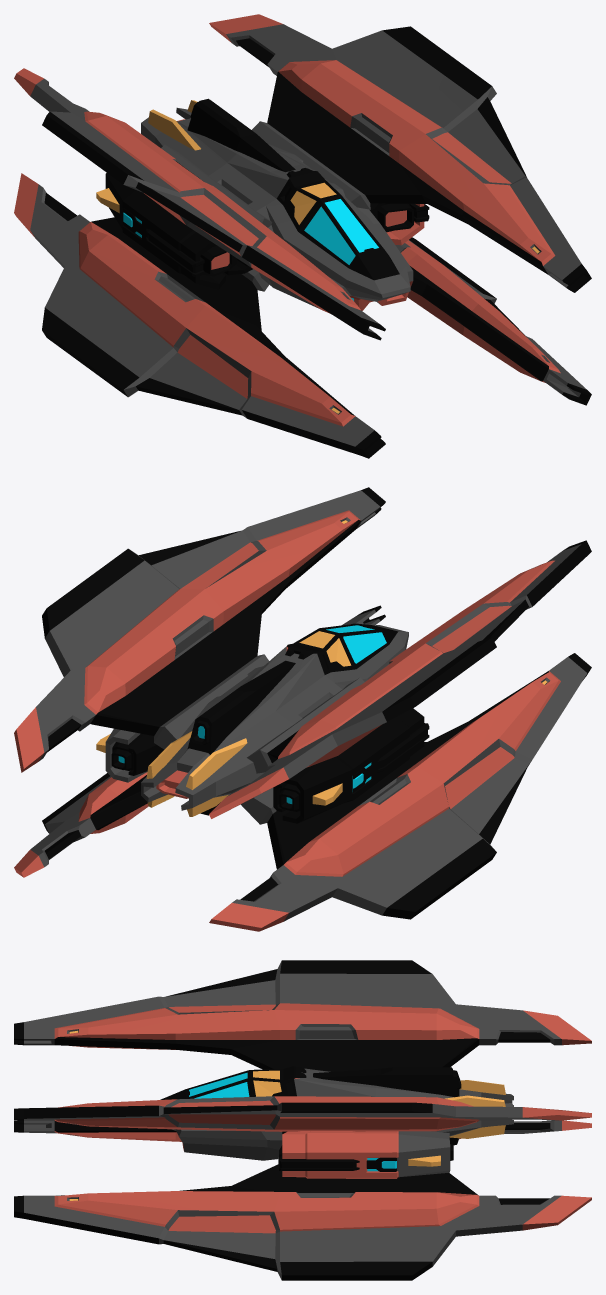
The model's file is enemy01-02.fbx.
3 renders of one model, top to bottom at view 1: azimuth 30°, elevation 25°; view 2: azimuth 150°, elevation 25°; view 3: azimuth 270°, elevation 25°, orthographic. The views are drawn at different scales.
Visible parts, largest first — view 1: SM_Ship_Stealth_04; view 2: SM_Ship_Stealth_04; view 3: SM_Ship_Stealth_04.
Part boxes in pixels (bbox=[...]): SM_Ship_Stealth_04: bbox=[14, 14, 591, 458]; SM_Ship_Stealth_04: bbox=[14, 487, 591, 931]; SM_Ship_Stealth_04: bbox=[14, 960, 591, 1280].
Bounding box in the file's own units: 935 × 532 × 1566.
